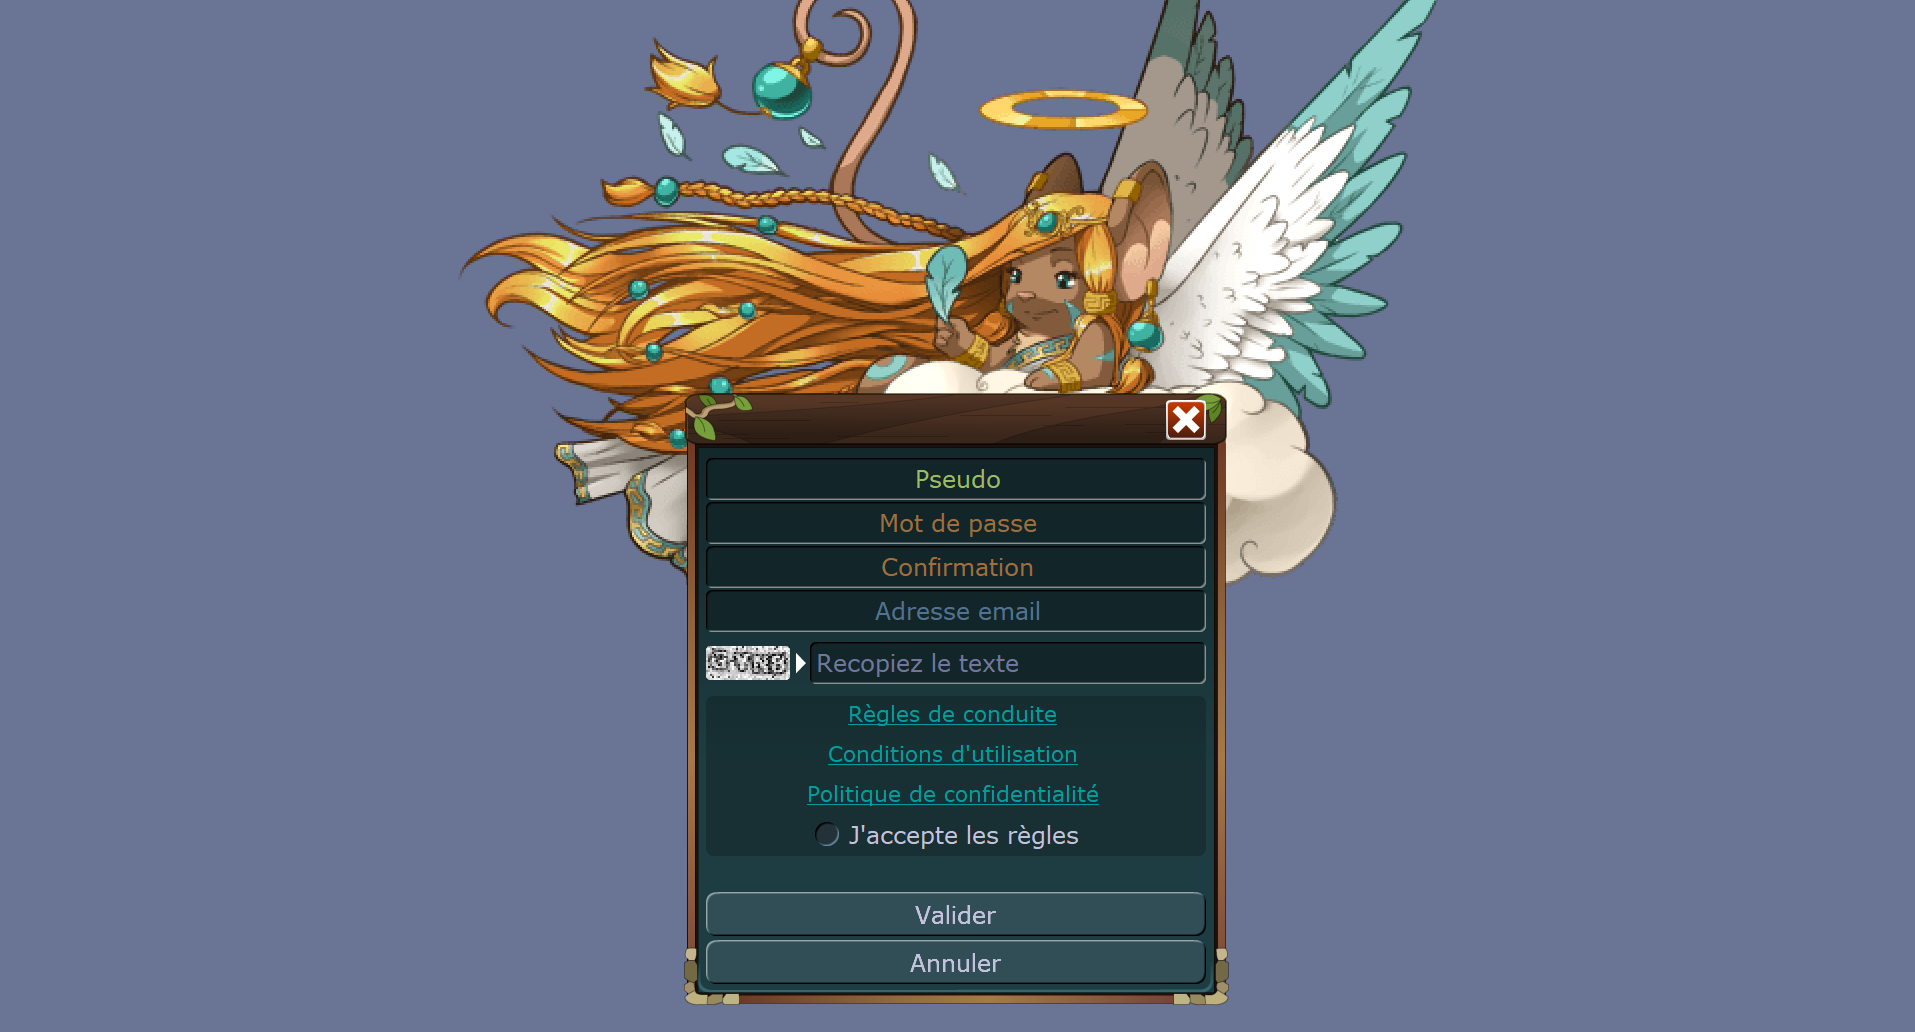B: (770, 651, 787, 674)
CAPTCHA: (707, 644, 790, 682)
G: (709, 648, 729, 670)
N: (751, 649, 770, 677)
Y: (733, 649, 751, 674)
